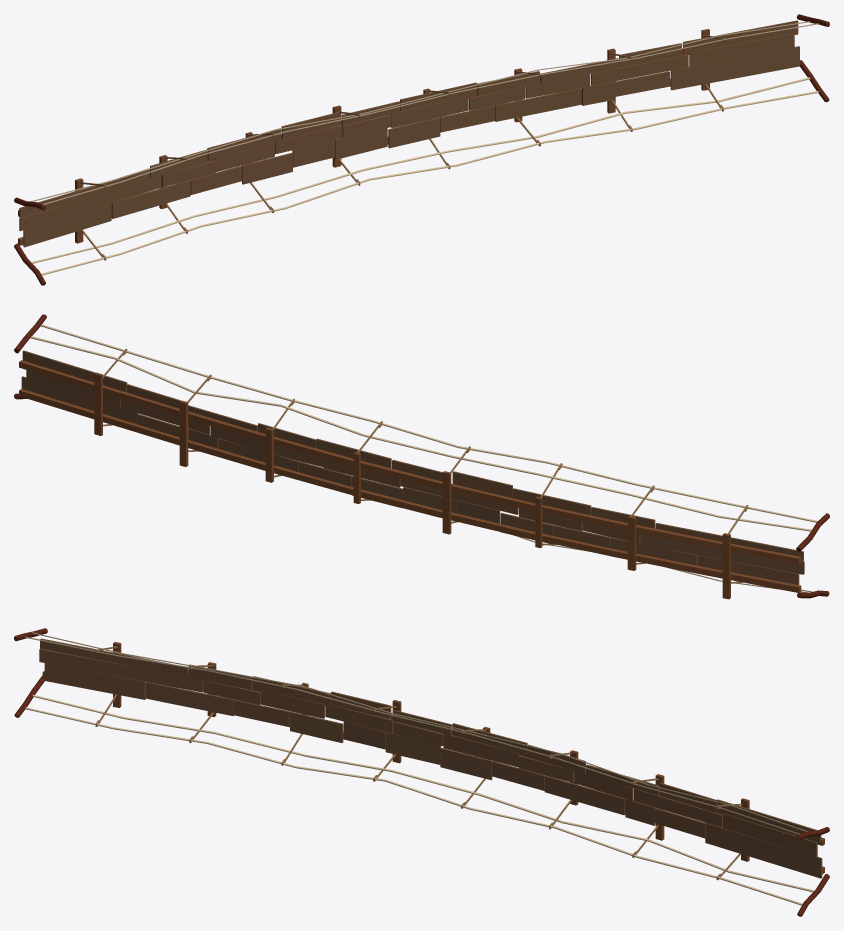
Rendered from Bridge_26m_02.fbx.
The picture shows the model from 3 angles, top to bottom: view 1: azimuth 30°, elevation 25°; view 2: azimuth 150°, elevation 25°; view 3: azimuth 330°, elevation 25°; orthographic projection.
Visible parts, largest first — view 1: Bridge 26 m; view 2: Bridge 26 m; view 3: Bridge 26 m.
Part boxes in pixels (<box>): Bridge 26 m: <box>14,14,829,285</box>; Bridge 26 m: <box>14,314,829,599</box>; Bridge 26 m: <box>14,628,829,916</box>.
Bounding box in the file's own units: 2644 × 264 × 292.
